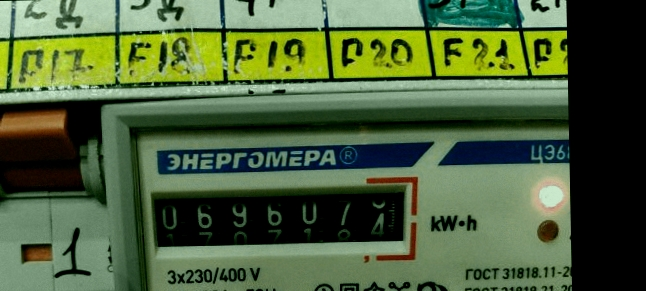0: (159, 200, 179, 230), (300, 194, 319, 225)
4: (367, 209, 386, 237)
6: (193, 198, 215, 229), (265, 197, 284, 225)
7: (335, 195, 352, 225)
9: (230, 199, 248, 228)
screen: (134, 168, 421, 264)
